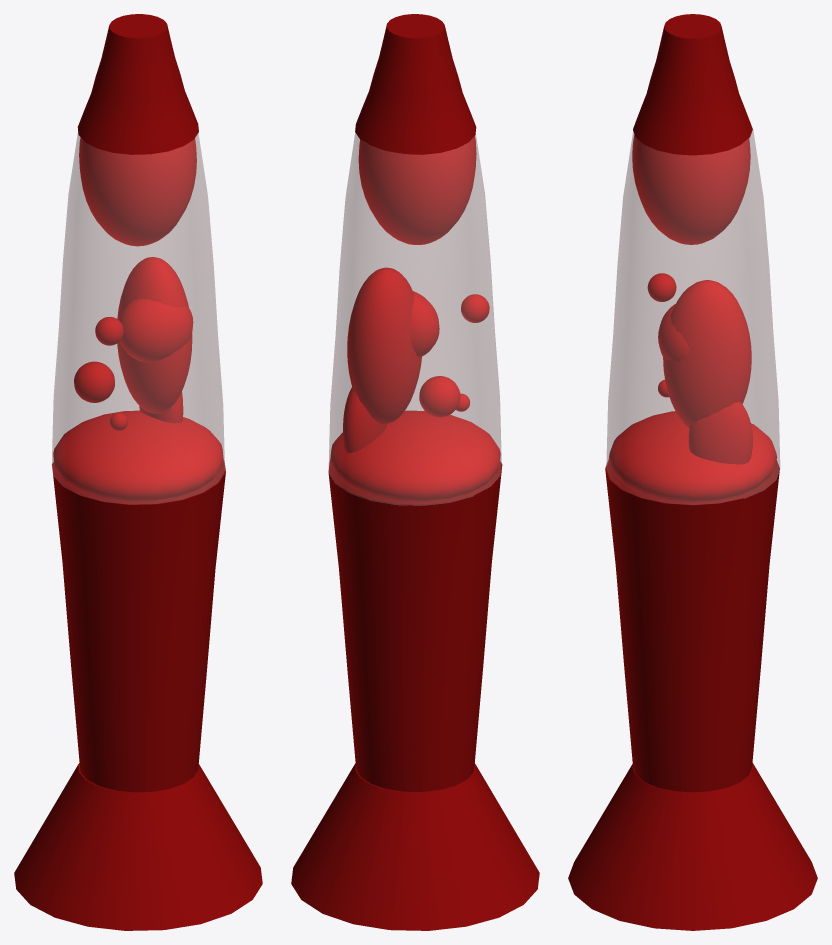
The model's file is lavalamp.fbx.
The picture shows the model from 3 angles, left to right: view 1: azimuth 30°, elevation 25°; view 2: azimuth 150°, elevation 25°; view 3: azimuth 270°, elevation 25°; orthographic projection.
Visible parts, largest first — view 1: pCylinder4, pCylinder3, pCone4, pCylinder5, pSphere9, pSphere4, pSphere3, pSphere6, pSphere8, pSphere7; view 2: pCylinder4, pCylinder3, pCone4, pCylinder5, pSphere9, pSphere3, pSphere4, pSphere6, pSphere8, pSphere7; view 3: pCylinder4, pCylinder3, pCone4, pSphere3, pCylinder5, pSphere9, pSphere4, pSphere6, pSphere7.
Boxes of the visible parts, bbox=[...] form: pCylinder4: bbox=[51, 131, 224, 504]; pCylinder3: bbox=[52, 461, 225, 792]; pCone4: bbox=[14, 763, 262, 930]; pCylinder5: bbox=[77, 14, 198, 154]; pSphere9: bbox=[53, 410, 223, 501]; pSphere4: bbox=[79, 137, 196, 246]; pSphere3: bbox=[117, 257, 192, 423]; pSphere6: bbox=[119, 298, 193, 362]; pSphere8: bbox=[74, 361, 114, 402]; pSphere7: bbox=[95, 317, 123, 345]; pCylinder4: bbox=[328, 133, 501, 505]; pCylinder3: bbox=[328, 460, 502, 791]; pCone4: bbox=[291, 763, 539, 930]; pCylinder5: bbox=[355, 14, 476, 154]; pSphere9: bbox=[330, 410, 500, 501]; pSphere3: bbox=[343, 267, 421, 452]; pSphere4: bbox=[358, 136, 476, 244]; pSphere6: bbox=[410, 291, 439, 357]; pSphere8: bbox=[419, 376, 460, 417]; pSphere7: bbox=[461, 294, 489, 322]; pCylinder4: bbox=[606, 122, 780, 504]; pCylinder3: bbox=[605, 459, 779, 792]; pCone4: bbox=[568, 763, 817, 930]; pSphere3: bbox=[663, 280, 752, 464]; pCylinder5: bbox=[633, 14, 752, 155]; pSphere9: bbox=[609, 411, 776, 501]; pSphere4: bbox=[632, 134, 750, 244]; pSphere6: bbox=[658, 304, 689, 361]; pSphere7: bbox=[647, 273, 676, 301].
Size of the model in its own units: 4.68 by 17.6 by 4.68.
